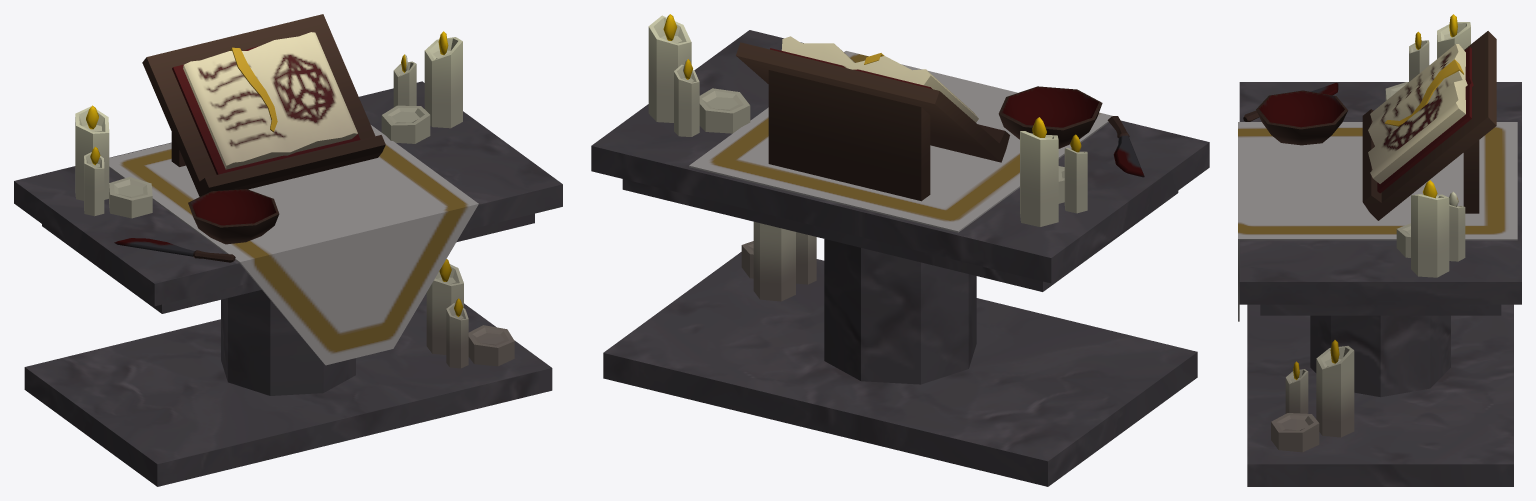
Rendered from SM_tableBlessing.fbx.
3 views of the same model, side by side, from view 1: azimuth 30°, elevation 25°; view 2: azimuth 150°, elevation 25°; view 3: azimuth 270°, elevation 25° (orthographic). The views are drawn at different scales.
Parts seen in each view (by area): view 1: SM_tableBlessing; view 2: SM_tableBlessing; view 3: SM_tableBlessing.
Part boxes in pixels (x1,y1,x2,y2): SM_tableBlessing: [14, 14, 562, 486]; SM_tableBlessing: [591, 14, 1209, 486]; SM_tableBlessing: [1238, 14, 1521, 486].
Bounding box in the file's own units: 1.27 × 0.9497 × 0.7595.
1 material, 1 textured.
